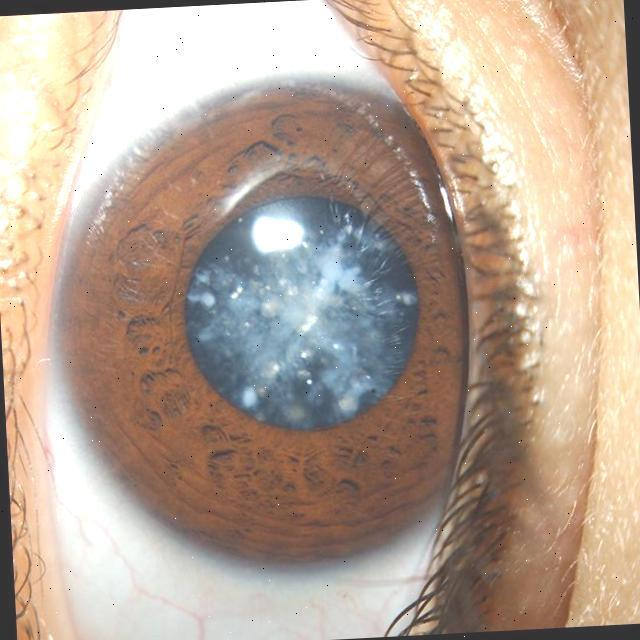Cataract: (63, 17, 522, 621)
